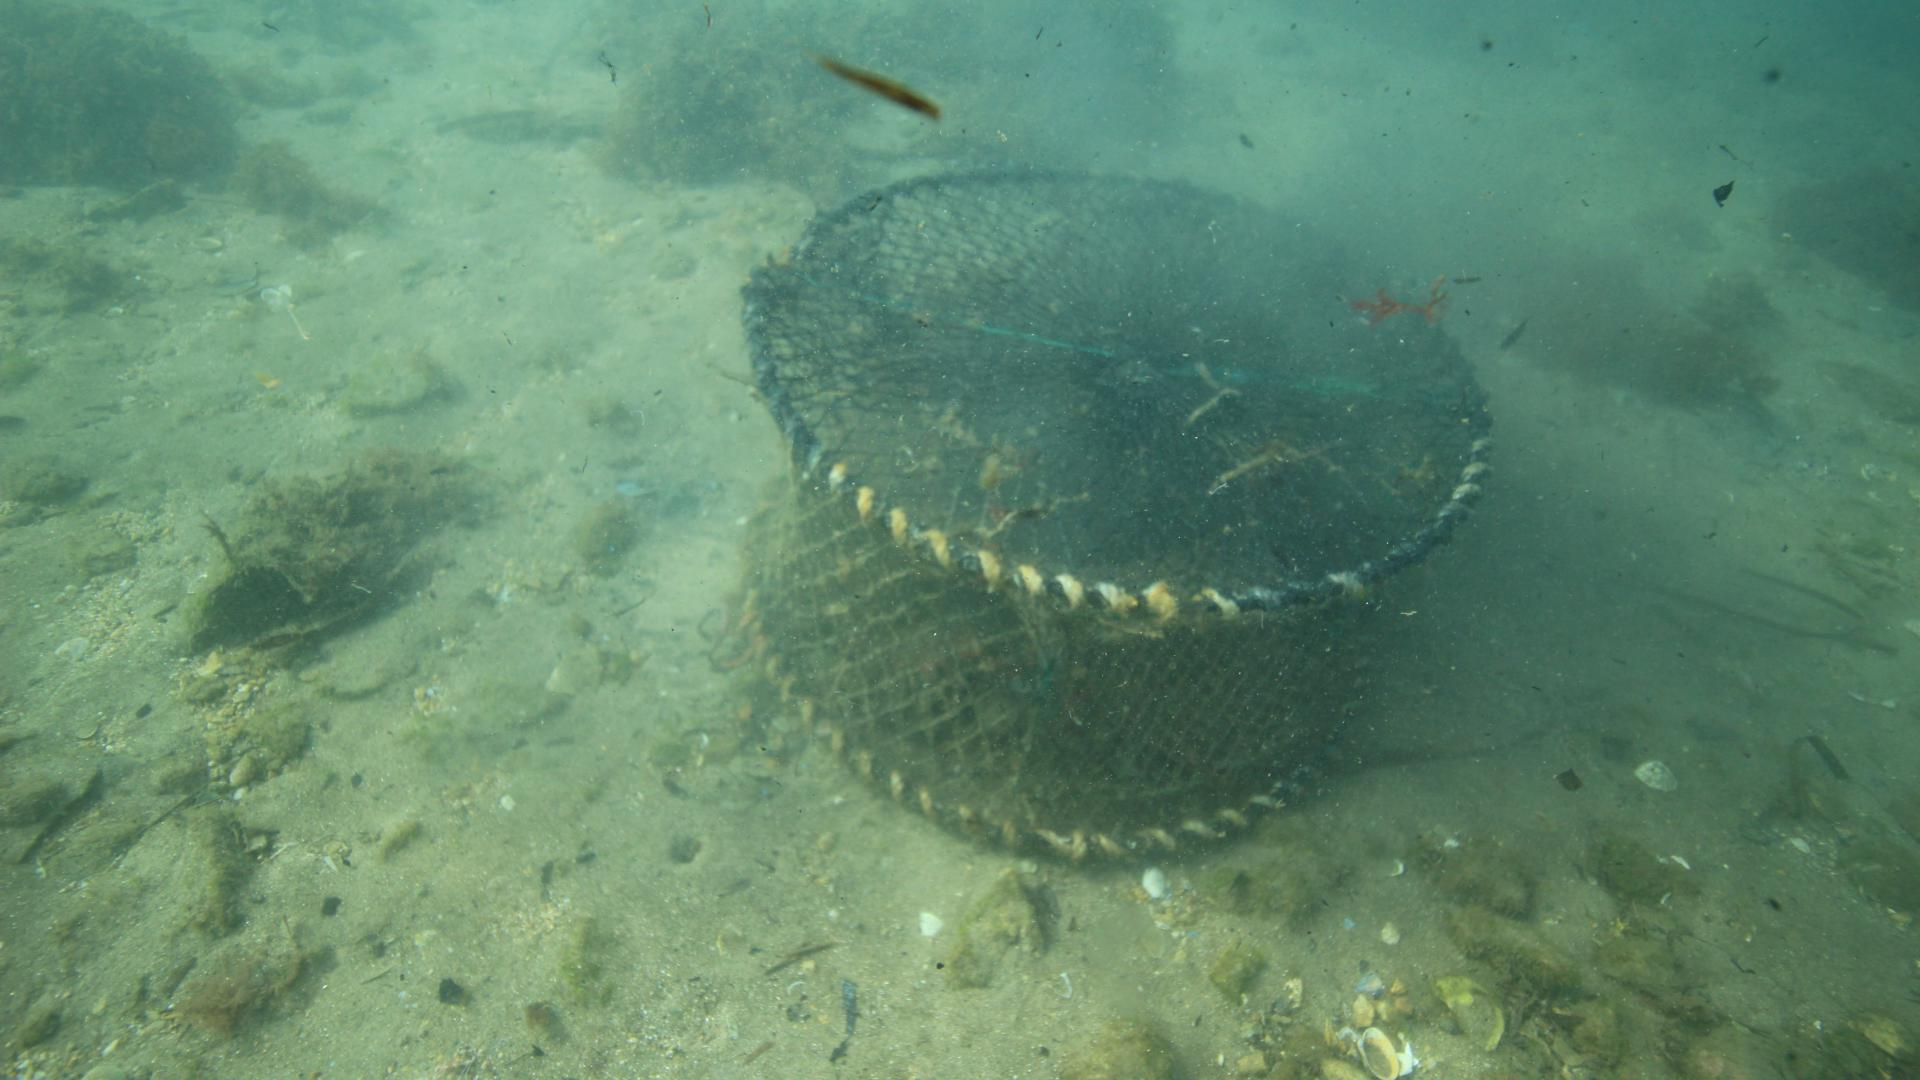circular fish trap: (741, 161, 1495, 866)
